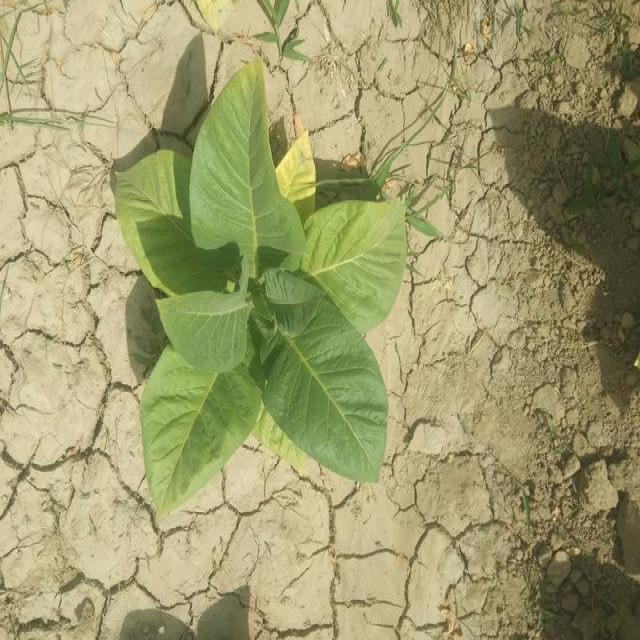crop: (115, 71, 408, 492)
